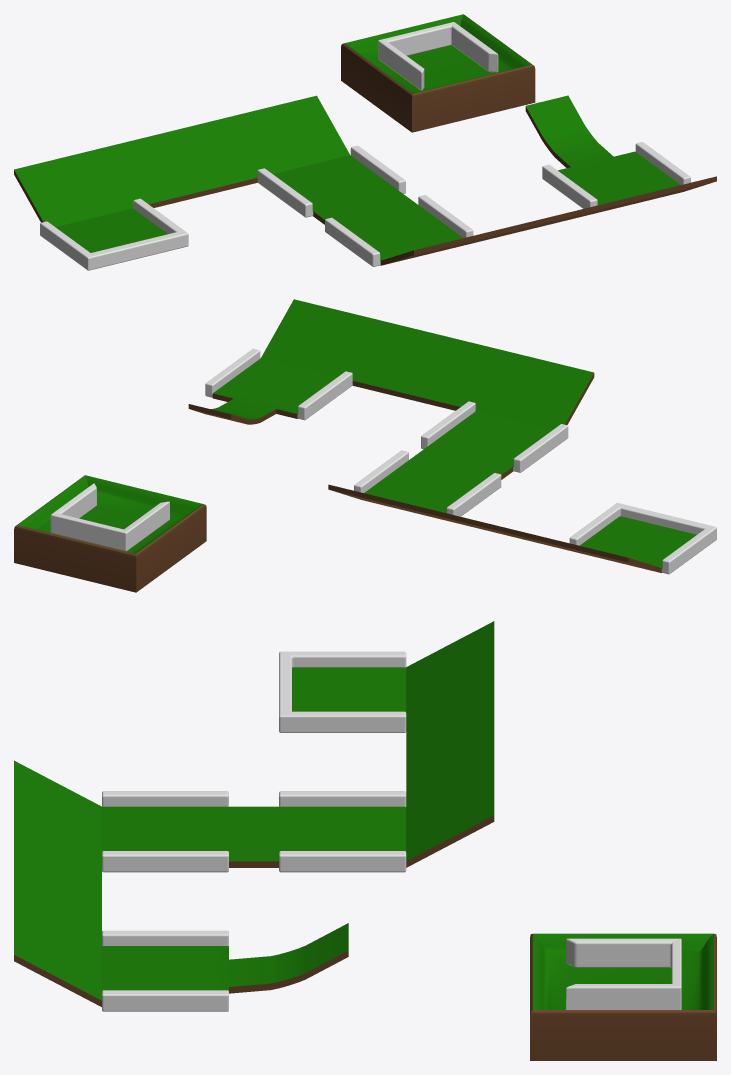
File: Stage3.fbx
3 renders of one model, top to bottom at view 1: azimuth 30°, elevation 25°; view 2: azimuth 150°, elevation 25°; view 3: azimuth 270°, elevation 25°, orthographic. The views are drawn at different scales.
Parts seen in each view (by area): view 1: Ground, Barriers, Cube; view 2: Ground, Cube, Barriers; view 3: Ground, Barriers, Cube.
Boxes of the visible parts, left/top/right/bottom form: Ground: left=14, top=95, right=716, bottom=265; Barriers: left=40, top=22, right=690, bottom=270; Cube: left=341, top=14, right=535, bottom=132; Ground: left=188, top=299, right=696, bottom=573; Cube: left=14, top=475, right=206, bottom=592; Barriers: left=50, top=348, right=716, bottom=574; Ground: left=14, top=621, right=494, bottom=1006; Barriers: left=102, top=651, right=681, bottom=1011; Cube: left=530, top=933, right=716, bottom=1060.
Size of the model in its own units: 1349 by 175 by 1152.
